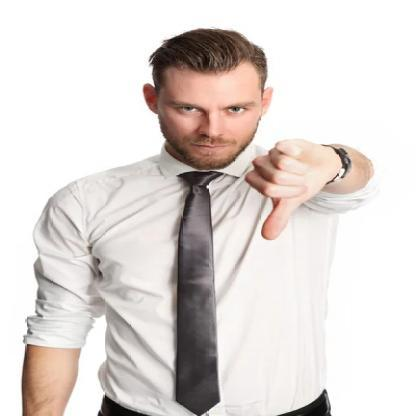thumb_down: (244, 134, 330, 241)
